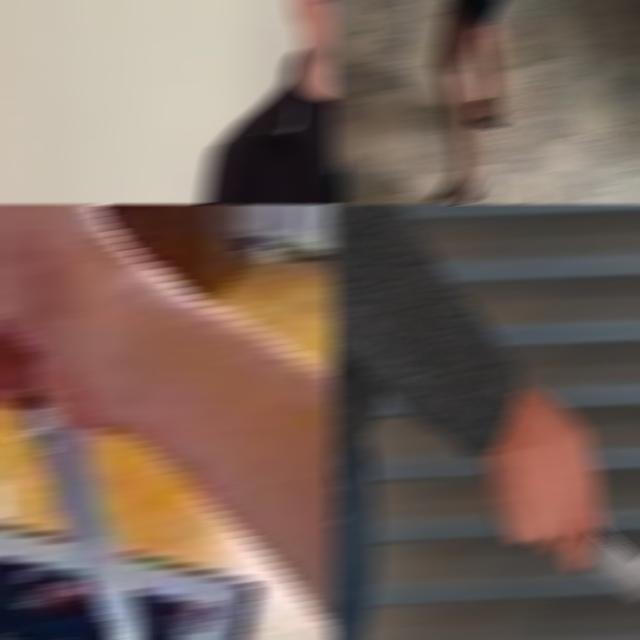Knife: (584, 524, 640, 634)
Knife_Handle: (0, 204, 144, 640), (498, 444, 640, 631)
